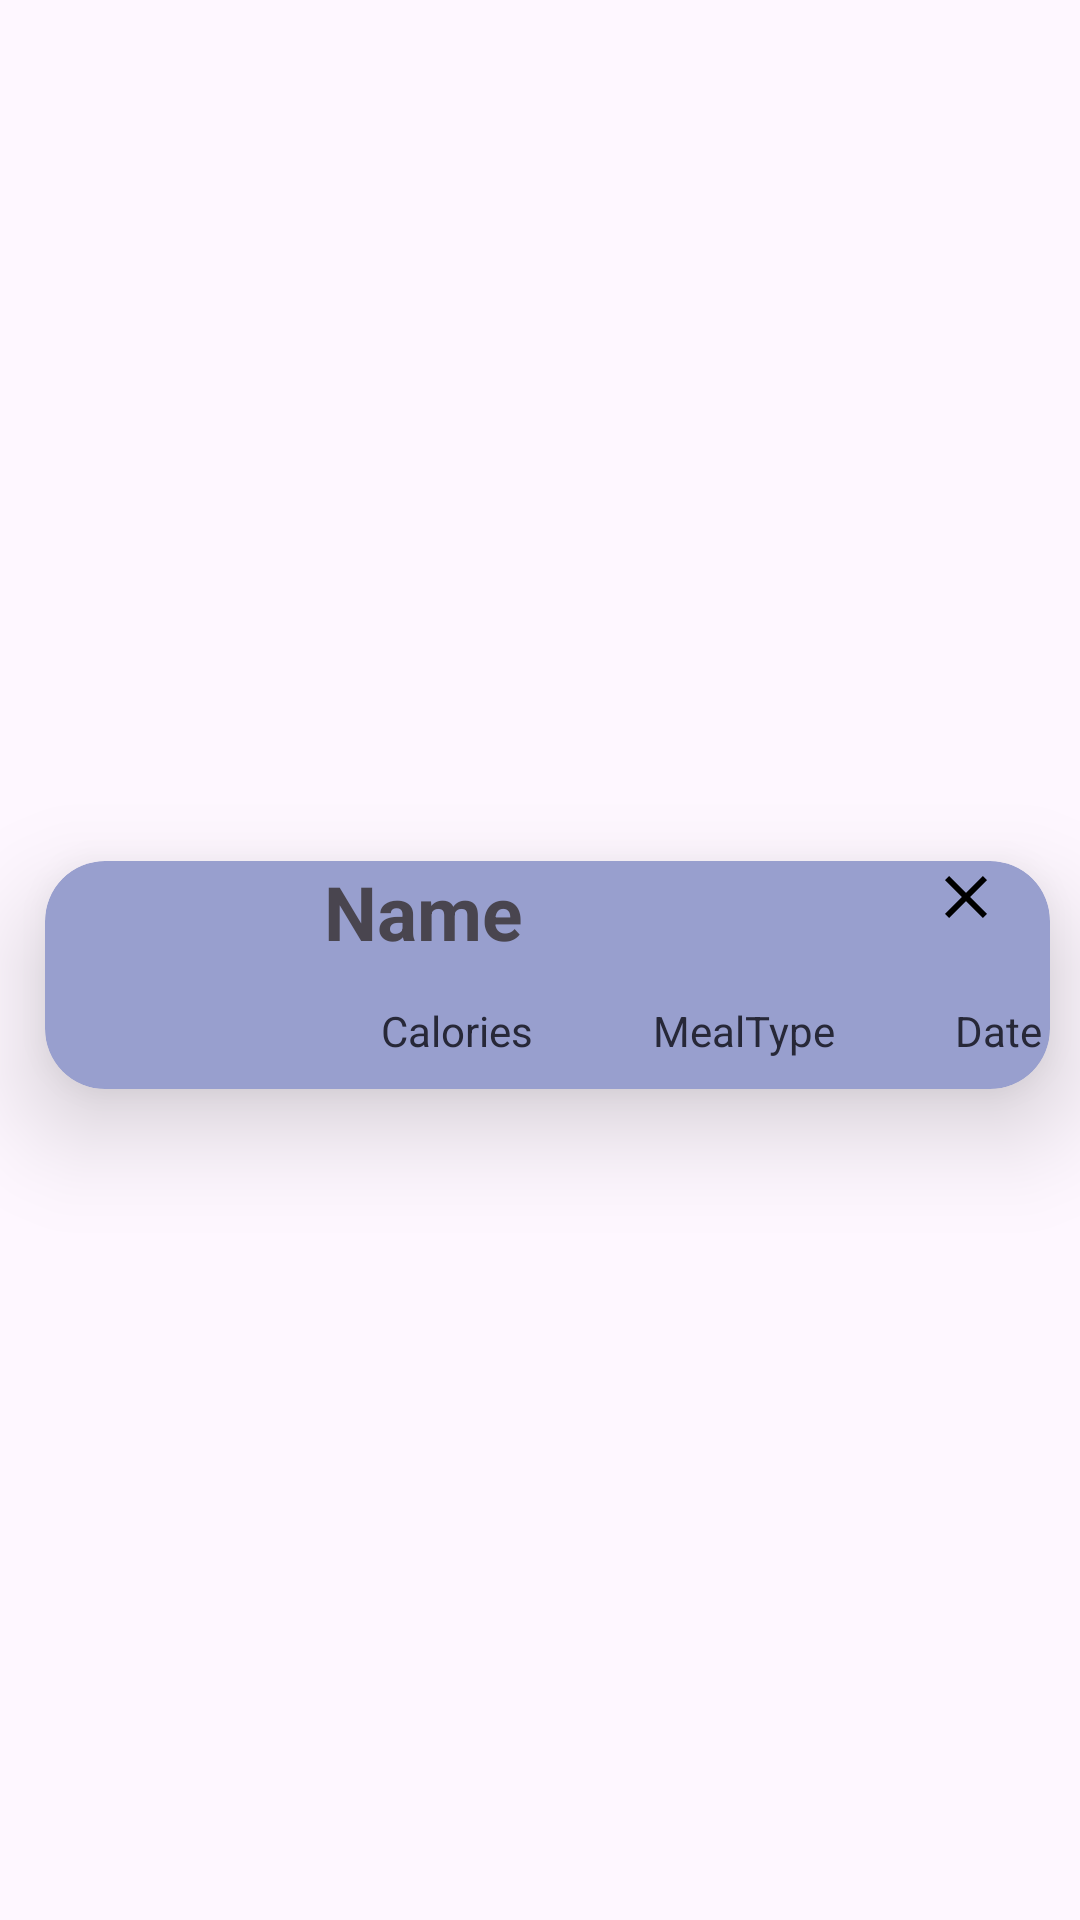

Icon bounding boxes for this 1080*1920 phone screenshot, format (x1, y1, x2, y2):
close: (945, 876, 987, 918)
